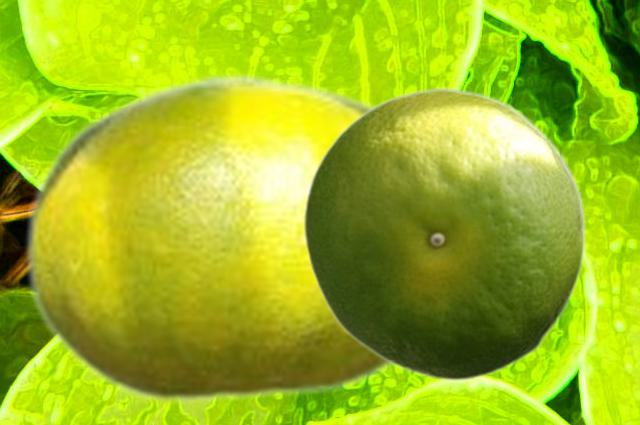dalandan: (23, 72, 399, 405), (302, 86, 585, 381)
